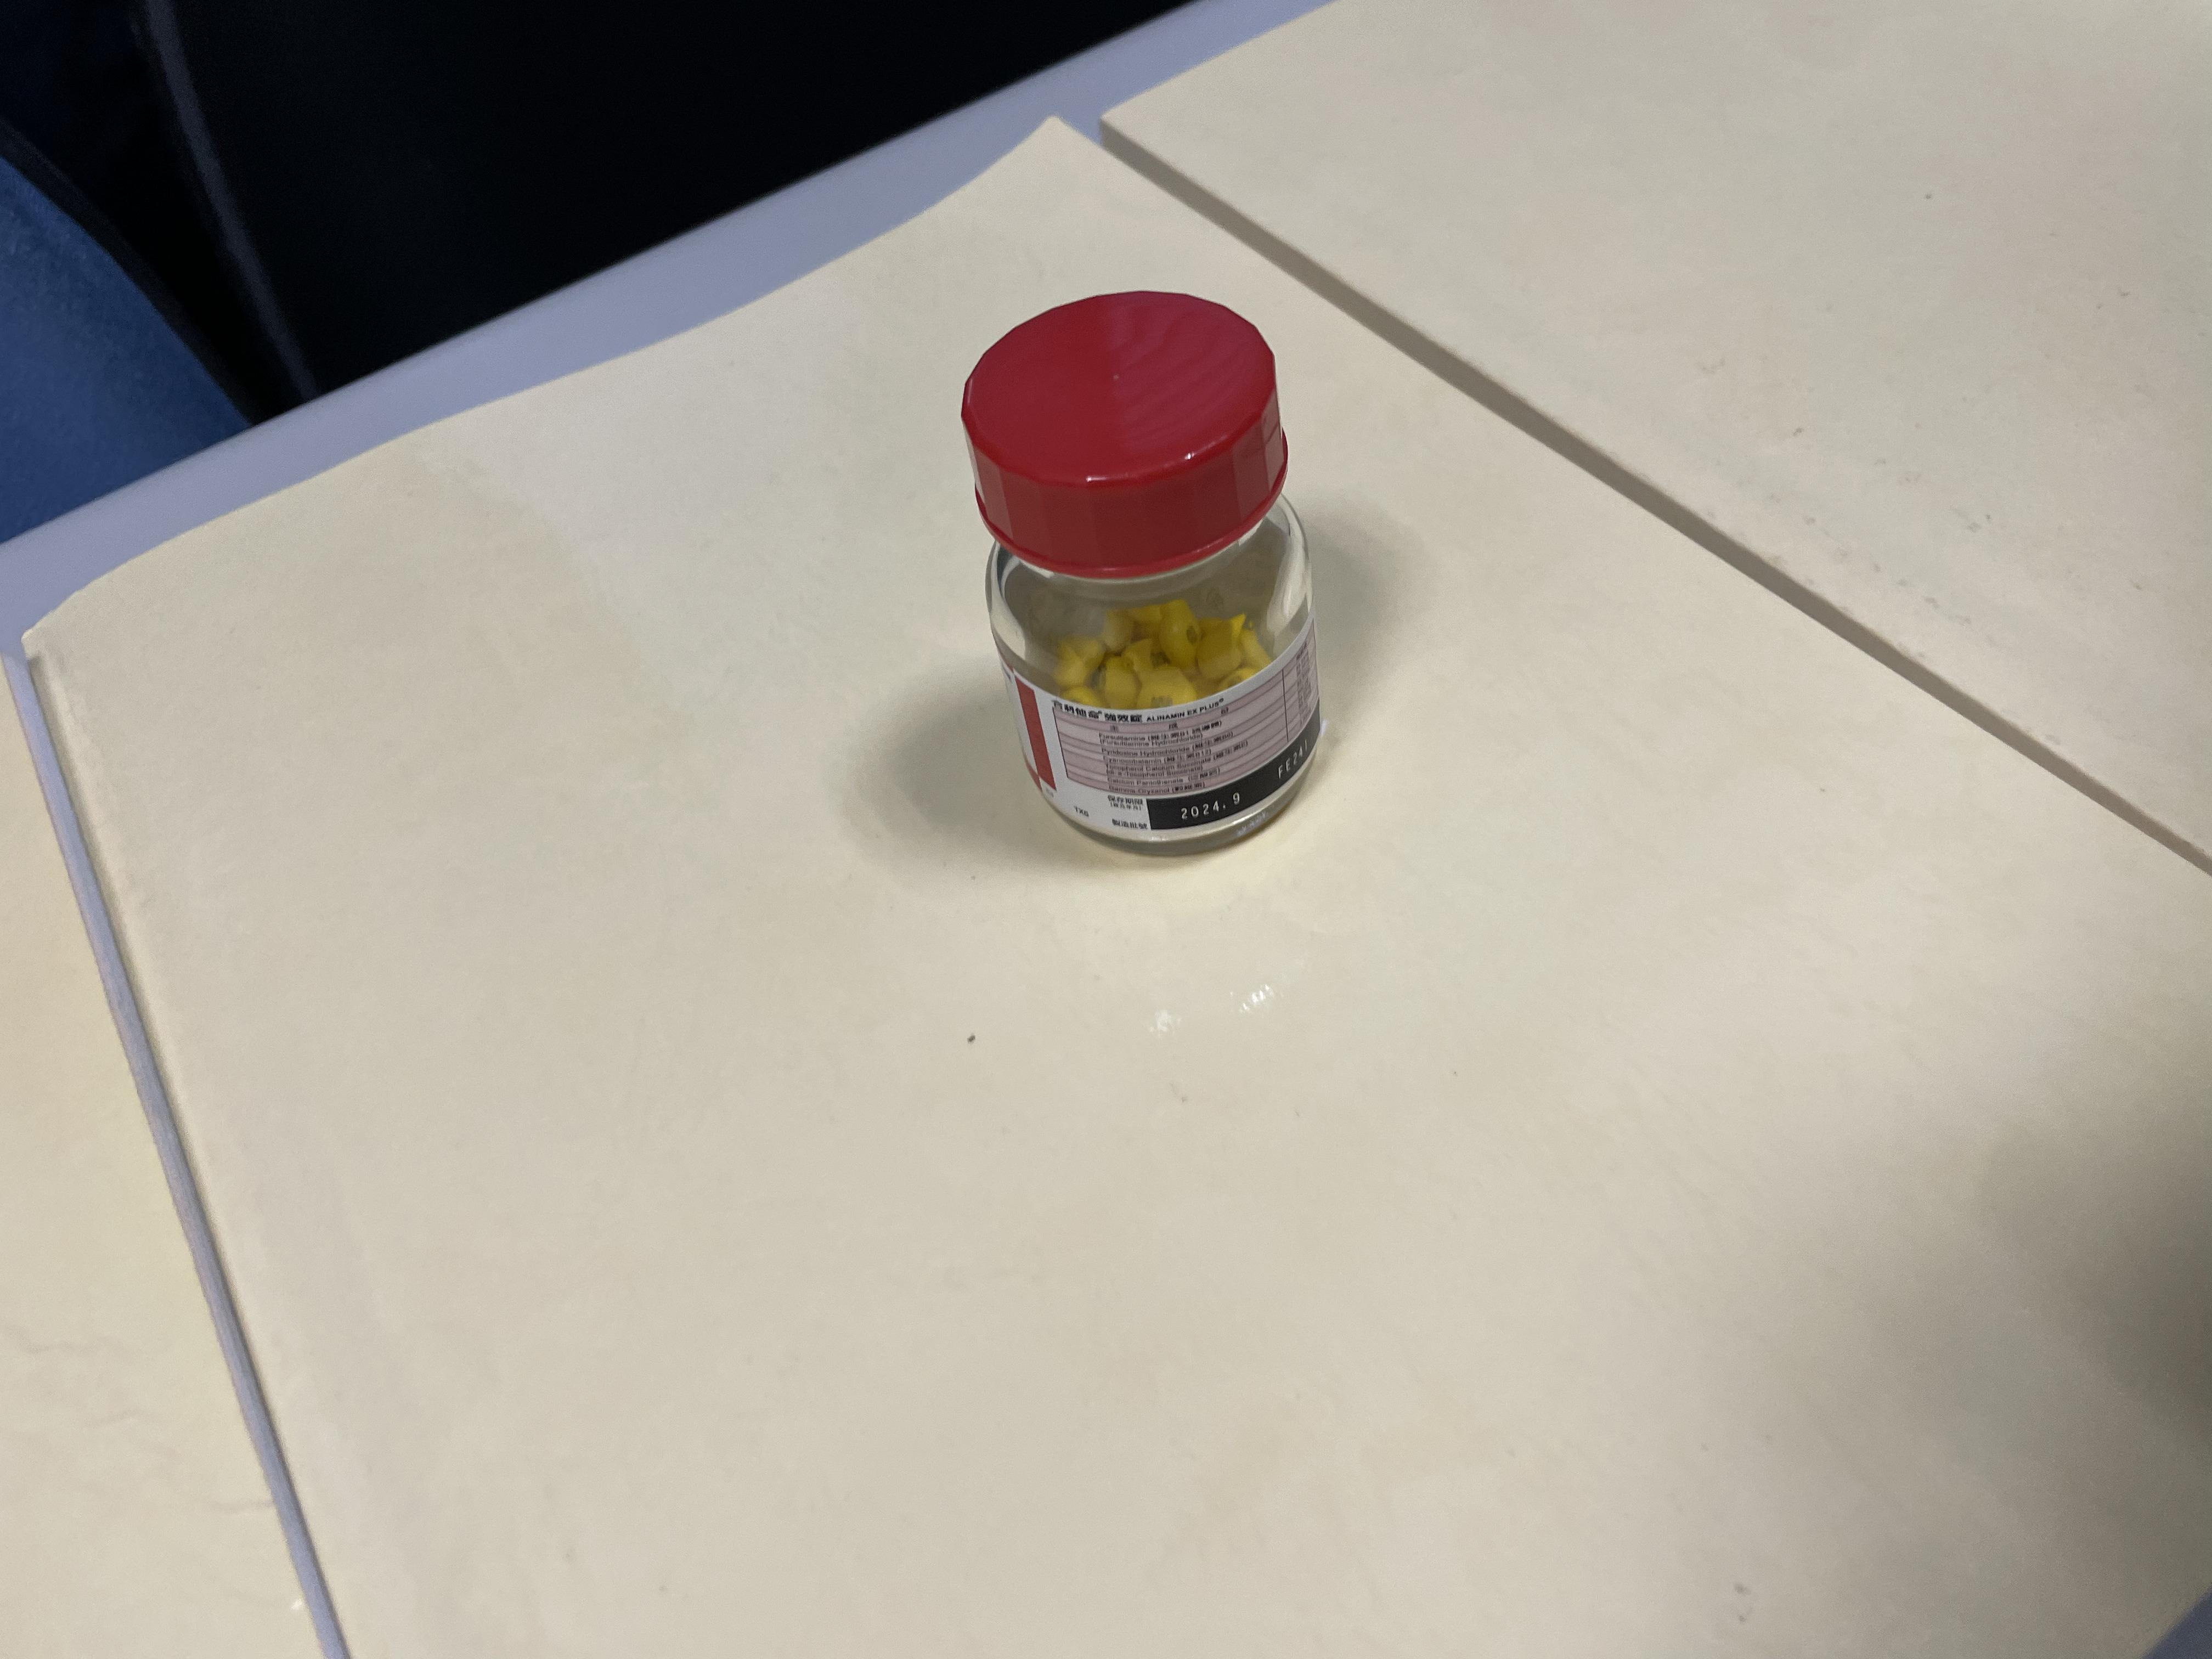jar: (897, 329, 1346, 859)
